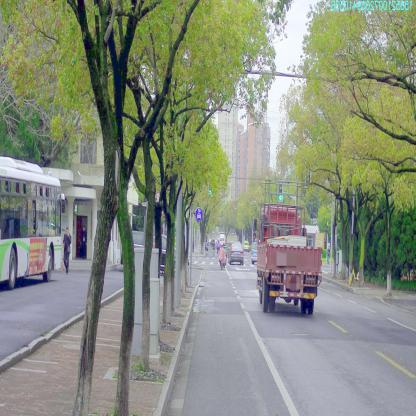traffic-light: (279, 184, 283, 200), (209, 185, 212, 195)
